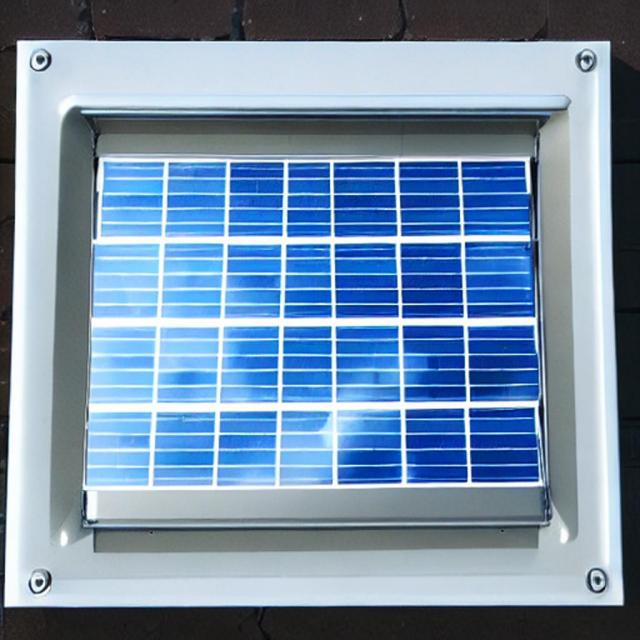no faulty: (91, 158, 539, 492)
